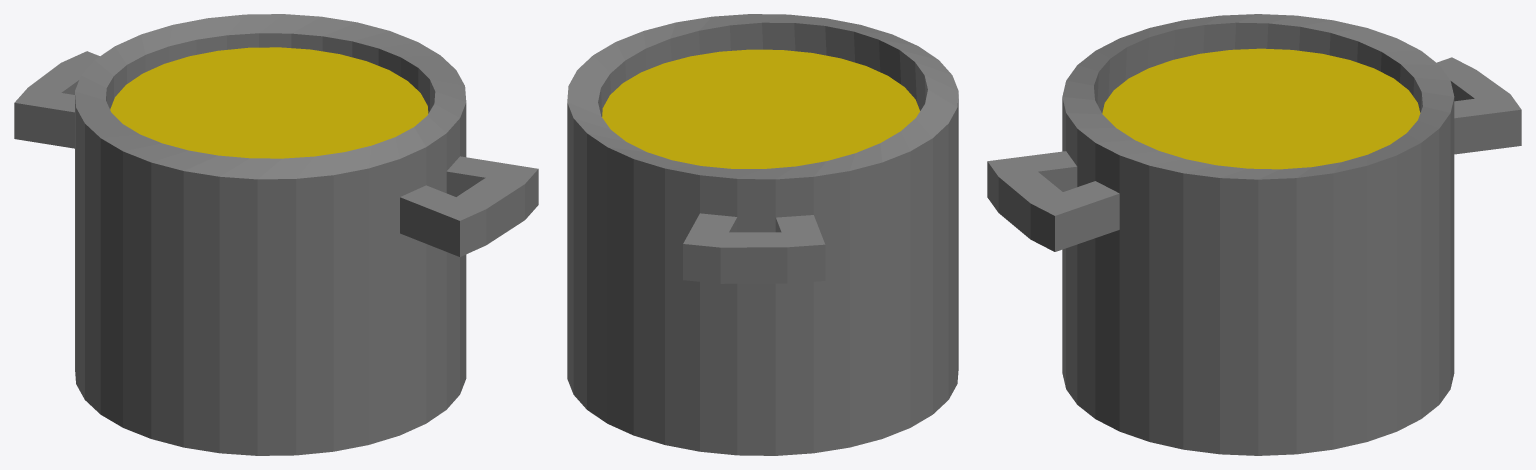
Rendered from ollaPiña.fbx.
3 renders of one model, left to right at view 1: azimuth 30°, elevation 25°; view 2: azimuth 150°, elevation 25°; view 3: azimuth 270°, elevation 25°, orthographic.
Parts seen in each view (by area): view 1: Cylinder; view 2: Cylinder; view 3: Cylinder.
Boxes of the visible parts, bbox=[...] form: Cylinder: bbox=[14, 14, 538, 455]; Cylinder: bbox=[567, 14, 958, 455]; Cylinder: bbox=[987, 14, 1521, 455].
Bounding box in the file's own units: 45 × 35.97 × 61.33.
